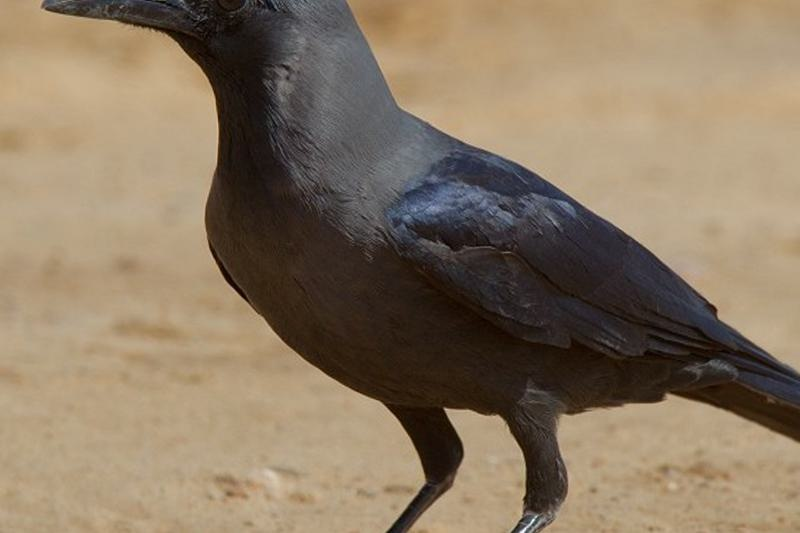crow: (34, 2, 793, 533)
